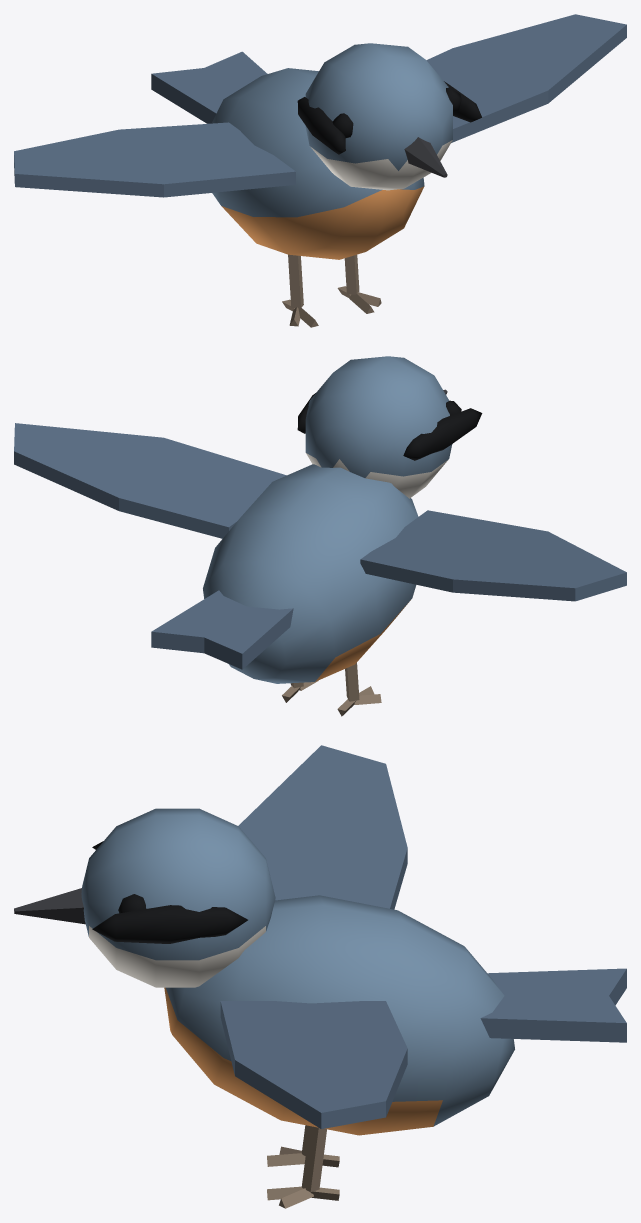
The model's file is bird_nuthatch.glb.
3 renders of one model, top to bottom at view 1: azimuth 30°, elevation 25°; view 2: azimuth 150°, elevation 25°; view 3: azimuth 270°, elevation 25°, orthographic. The views are drawn at different scales.
Parts seen in each view (by area): view 1: Bird_Body, Bird_Head, Bird_WingR, Bird_WingL, Bird_Legs; view 2: Bird_Body, Bird_WingL, Bird_Head, Bird_WingR, Bird_Legs; view 3: Bird_Body, Bird_Head, Bird_WingR, Bird_WingL, Bird_Legs.
Boxes of the visible parts, left/top/right/bottom form: Bird_Body: left=151, top=51, right=424, bottom=259; Bird_Head: left=297, top=43, right=481, bottom=190; Bird_WingR: left=14, top=122, right=295, bottom=197; Bird_WingL: left=426, top=14, right=626, bottom=142; Bird_Legs: left=282, top=254, right=381, bottom=327; Bird_Body: left=151, top=464, right=418, bottom=683; Bird_WingL: left=14, top=423, right=286, bottom=538; Bird_Head: left=297, top=356, right=482, bottom=498; Bird_WingR: left=360, top=510, right=626, bottom=601; Bird_Legs: left=282, top=662, right=381, bottom=716; Bird_Body: left=164, top=895, right=626, bottom=1135; Bird_Head: left=14, top=808, right=275, bottom=987; Bird_WingR: left=238, top=745, right=407, bottom=909; Bird_WingL: left=220, top=1001, right=407, bottom=1129; Bird_Legs: left=267, top=1125, right=339, bottom=1208.
Size of the model in its own units: 0.242 by 0.1131 by 0.1705.
